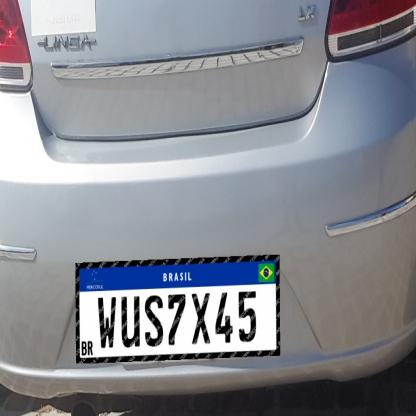PlacaM: (75, 255, 280, 363)
